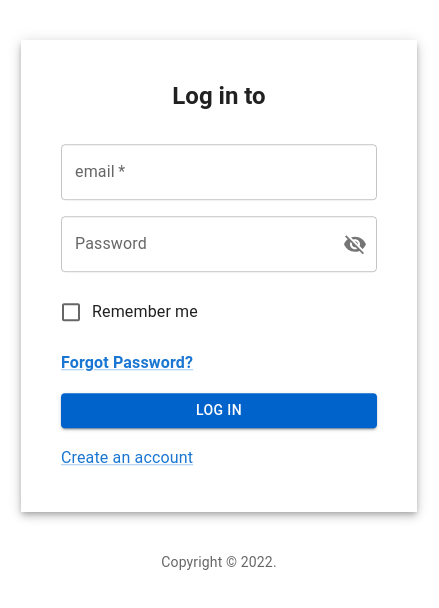
Test: Testing login › displays field errors if input is invalid or missing
Click the button "Log in" at [219, 411], box x1=61 y1=393 x2=377 y2=428
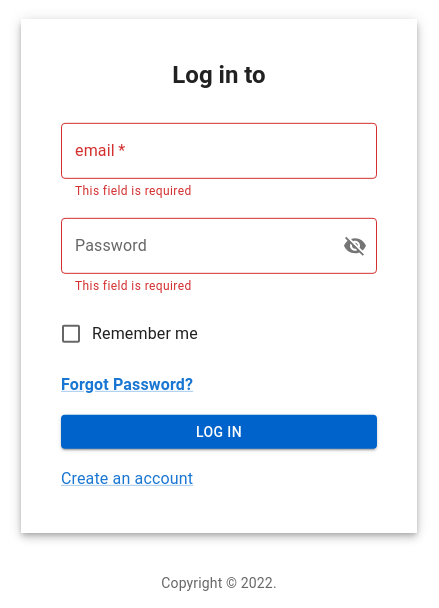
Result: the text "This field is required" below "email" is shown at x1=75 y1=184 x2=192 y2=198
Result: the text "This field is required" is shown 2 times at x1=75 y1=184 x2=192 y2=198; x1=75 y1=279 x2=192 y2=293
